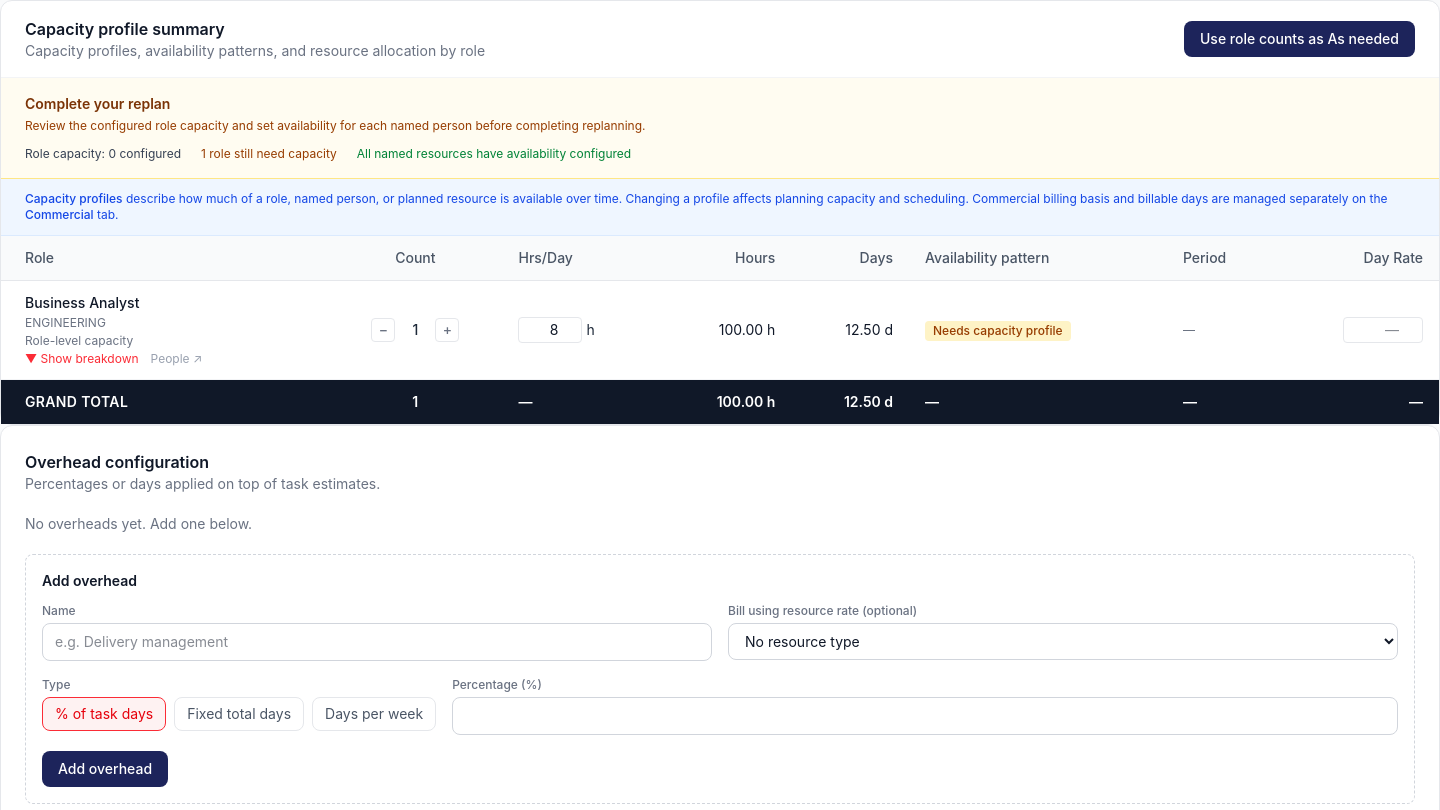
Test: ResourceProfileTab — bulk Use role counts as As needed (issue #456) › separates successful role writes from remaining recovery blockers
Click the button "Use role counts as As needed" at (1300, 39), box 1184,21 -> 1415,57
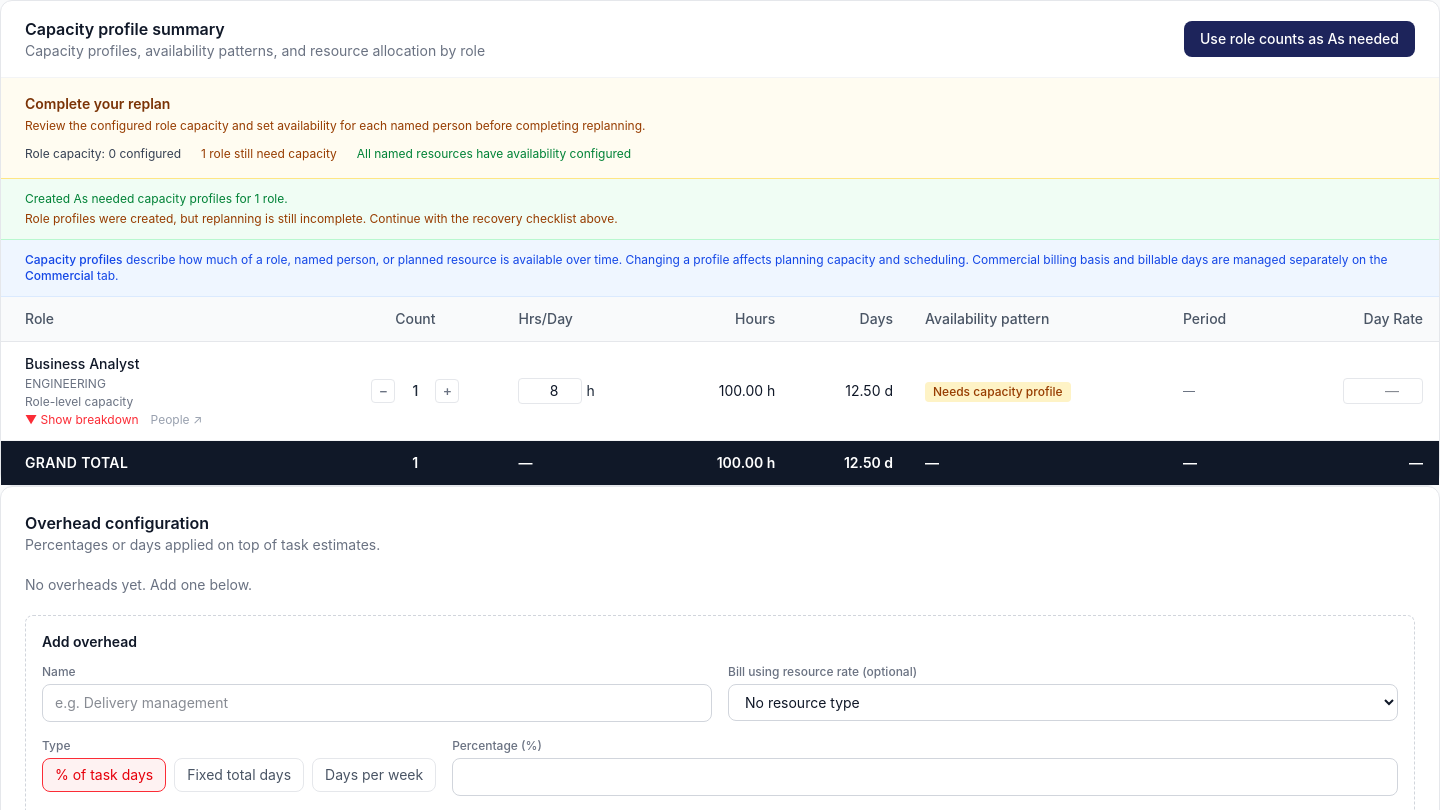
Expected: the message with test id "bulk-as-needed-feedback" does not show "Alice Example", 1,179 -> 1439,240
Expected: the message with test id "bulk-as-needed-feedback" shows "Role profiles were created", 25,211 -> 618,226
